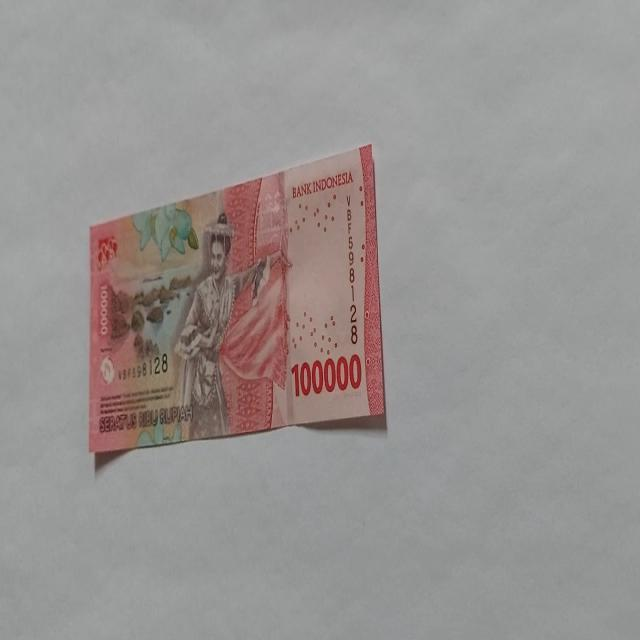seratus ribu rupiah: (88, 142, 386, 457), (172, 212, 274, 440)
